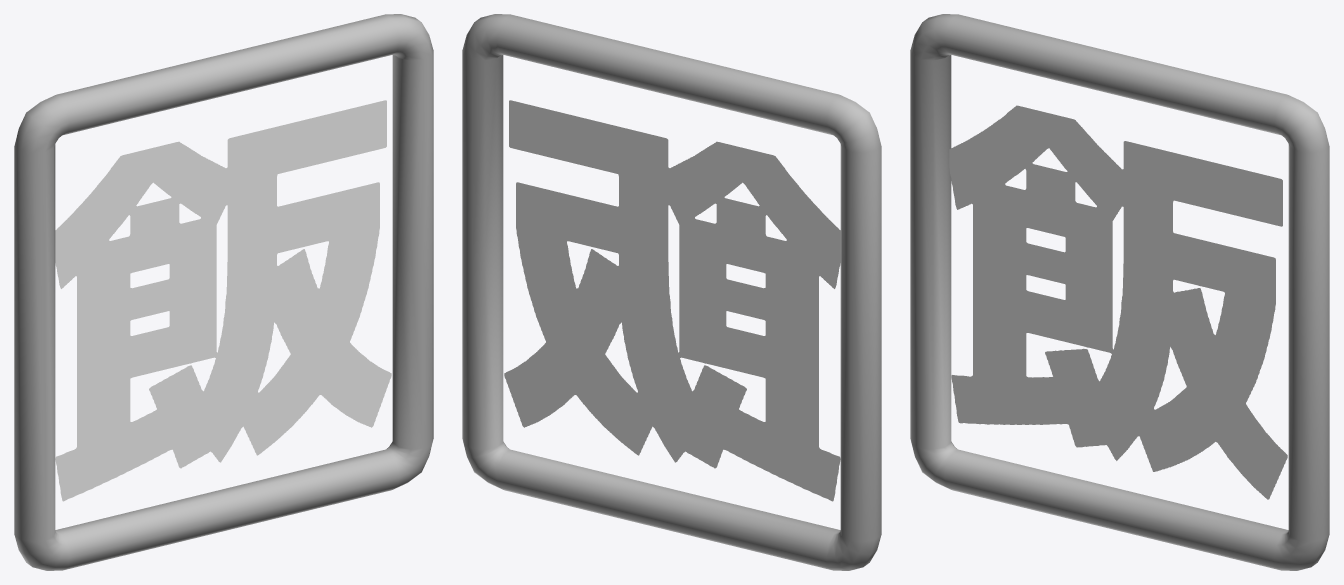
The model's file is Neon2_meshi.fbx.
The picture shows the model from 3 angles, left to right: view 1: azimuth 30°, elevation 25°; view 2: azimuth 150°, elevation 25°; view 3: azimuth 330°, elevation 25°; orthographic projection.
Visible parts, largest first — view 1: Neon2_meshi; view 2: Neon2_meshi; view 3: Neon2_meshi.
Boxes of the visible parts, bbox=[...] form: Neon2_meshi: bbox=[14, 14, 433, 570]; Neon2_meshi: bbox=[462, 14, 881, 570]; Neon2_meshi: bbox=[910, 14, 1329, 570].
Bounding box in the file's own units: 0.3582 × 0.0313 × 0.3909.
